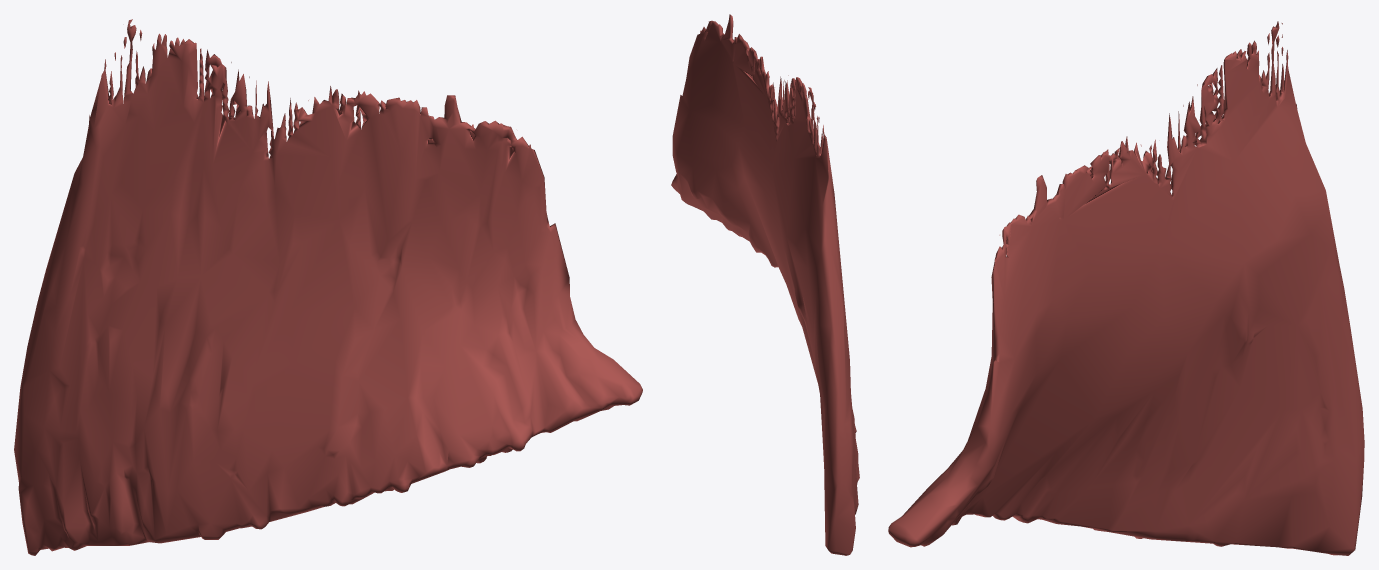
File: FMA46823.glb
3 renders of one model, left to right at view 1: azimuth 30°, elevation 25°; view 2: azimuth 150°, elevation 25°; view 3: azimuth 270°, elevation 25°, orthographic. The views are drawn at different scales.
Visible parts, largest first — view 1: FMA46823; view 2: FMA46823; view 3: FMA46823.
Part boxes in pixels (<box>): FMA46823: <box>14,19,642,555</box>; FMA46823: <box>671,14,859,555</box>; FMA46823: <box>888,21,1364,555</box>.
Size of the model in its own units: 0.0165 by 0.0202 by 0.0152.
